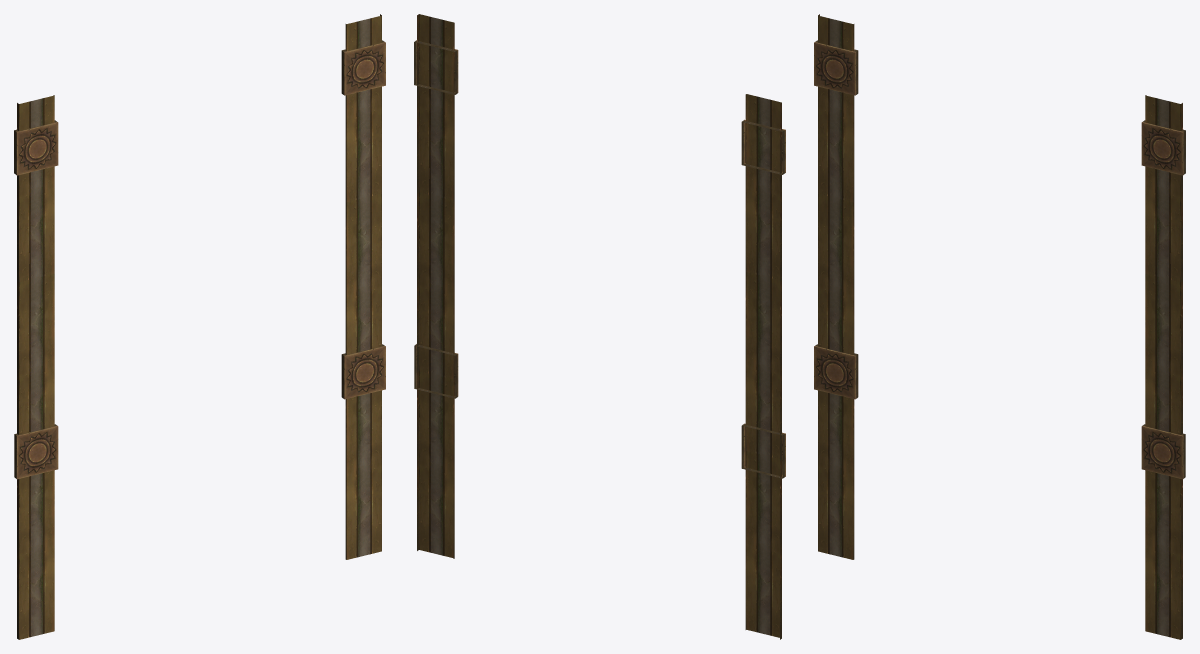
The model's file is zhucheng_yewai_370_lu01_n.obj.
3 renders of one model, left to right at view 1: azimuth 30°, elevation 25°; view 2: azimuth 150°, elevation 25°; view 3: azimuth 330°, elevation 25°, orthographic.
Visible parts, largest first — view 1: zhucheng_yewai_370_lu01_n02; view 2: zhucheng_yewai_370_lu01_n02; view 3: zhucheng_yewai_370_lu01_n02.
Part boxes in pixels (bbox=[...]): zhucheng_yewai_370_lu01_n02: bbox=[14, 14, 385, 639]; zhucheng_yewai_370_lu01_n02: bbox=[414, 14, 785, 639]; zhucheng_yewai_370_lu01_n02: bbox=[814, 14, 1185, 639].
Bounding box in the file's own units: 467 × 648 × 6.78.
1 material, 1 textured.
